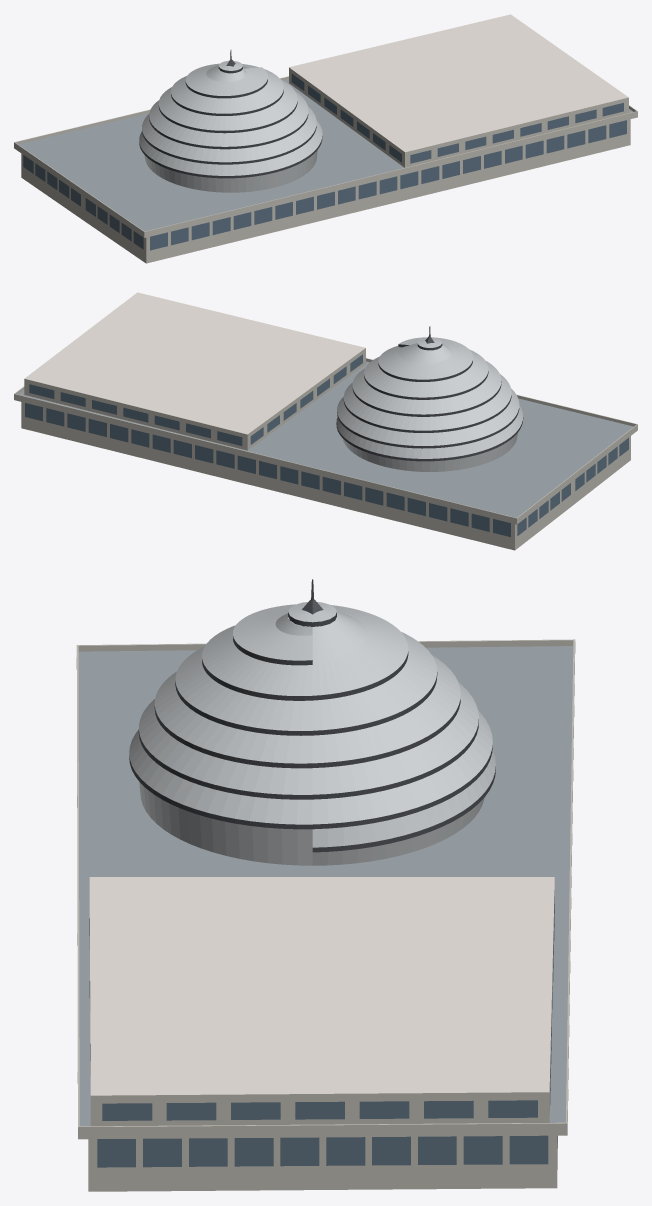
The model's file is kigali-convention-centre.detail.glb.
The picture shows the model from 3 angles, top to bottom: view 1: azimuth 30°, elevation 25°; view 2: azimuth 150°, elevation 25°; view 3: azimuth 270°, elevation 25°; orthographic projection. The views are drawn at different scales.
Visible parts, largest first — view 1: kigali-convention-centre; view 2: kigali-convention-centre; view 3: kigali-convention-centre.
Boxes of the visible parts, x1,y1,x2,y2 form: kigali-convention-centre: (14, 14, 637, 263); kigali-convention-centre: (14, 292, 637, 550); kigali-convention-centre: (76, 579, 575, 1191).
Bounding box in the file's own units: 198 × 52.5 × 85.6.
